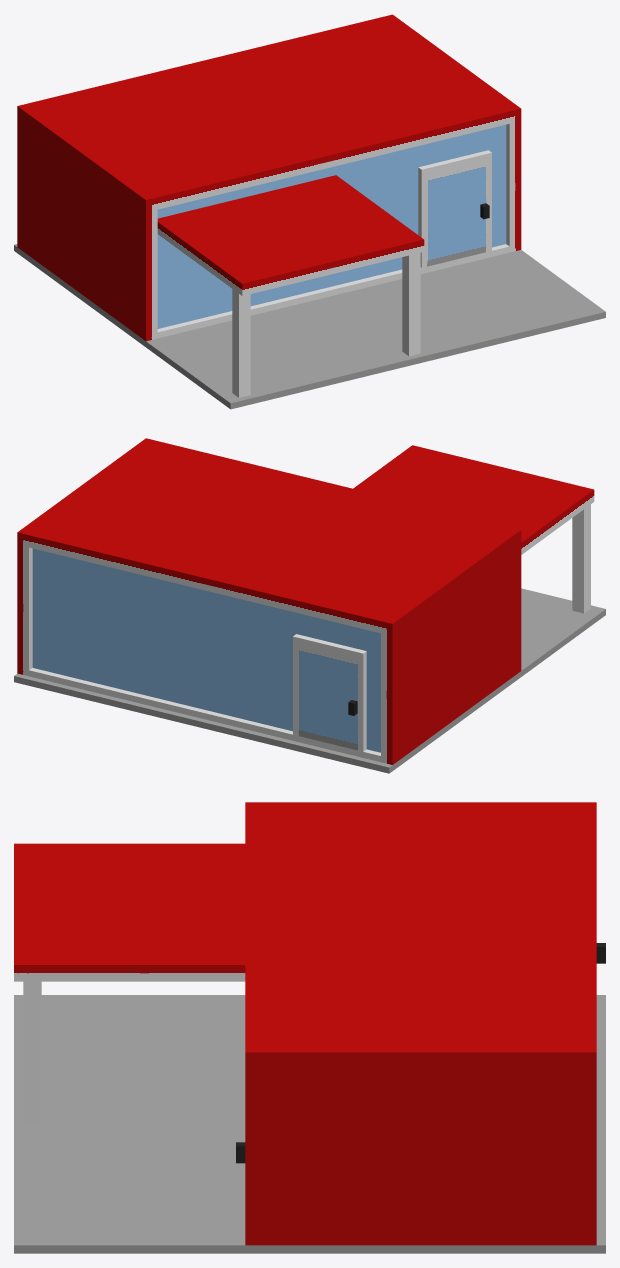
The model's file is obj_house2a.dae.
3 renders of one model, top to bottom at view 1: azimuth 30°, elevation 25°; view 2: azimuth 150°, elevation 25°; view 3: azimuth 270°, elevation 25°, orthographic. The views are drawn at different scales.
Parts seen in each view (by area): view 1: obj_house2a; view 2: obj_house2a; view 3: obj_house2a.
Boxes of the visible parts, x1=… form: obj_house2a: x1=14, y1=14, x2=605, y2=409; obj_house2a: x1=14, y1=438, x2=605, y2=773; obj_house2a: x1=14, y1=802, x2=605, y2=1253.
Size of the model in its own units: 6.4 by 6.4 by 2.4.
1 material, 1 textured.
